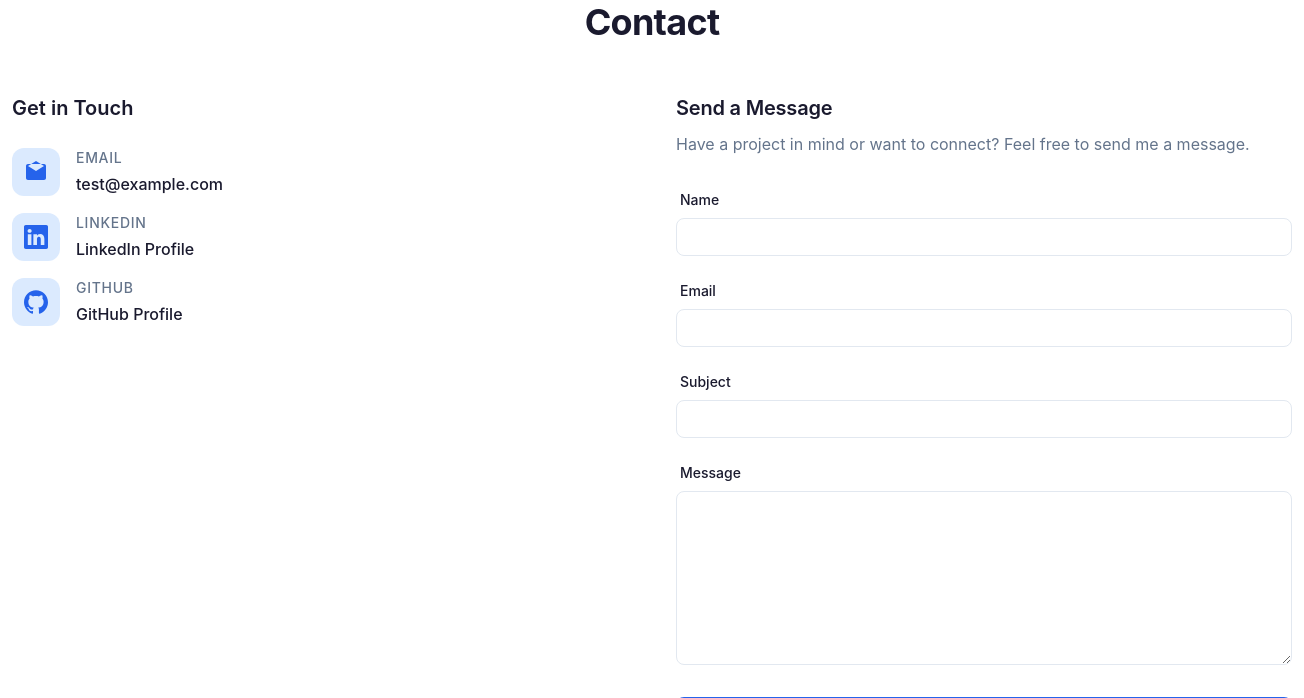
Test: Contact page › shows success state after valid submission
Type "Jane Doe" into the field labelled "Name". click: x=984, y=237
box: left=676, top=218, right=1292, bottom=256
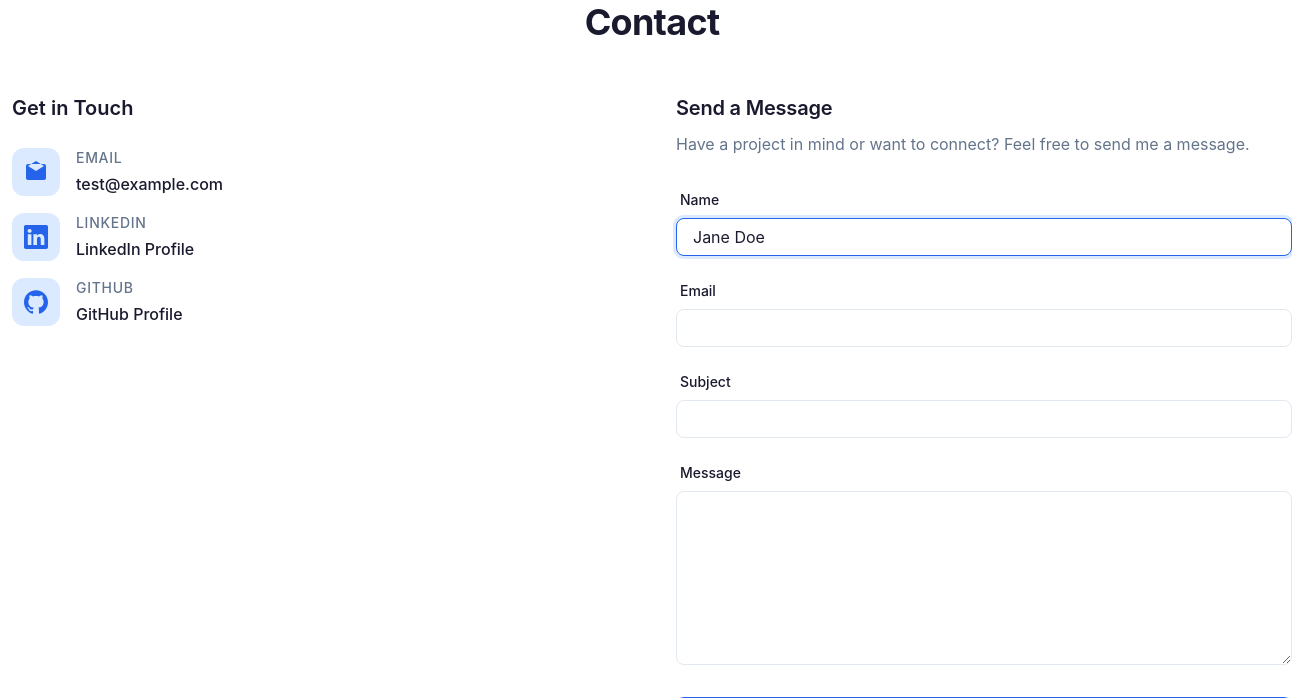
Type "jane@example.com" into the field labelled "Email". click: x=984, y=328
box: left=676, top=309, right=1292, bottom=347
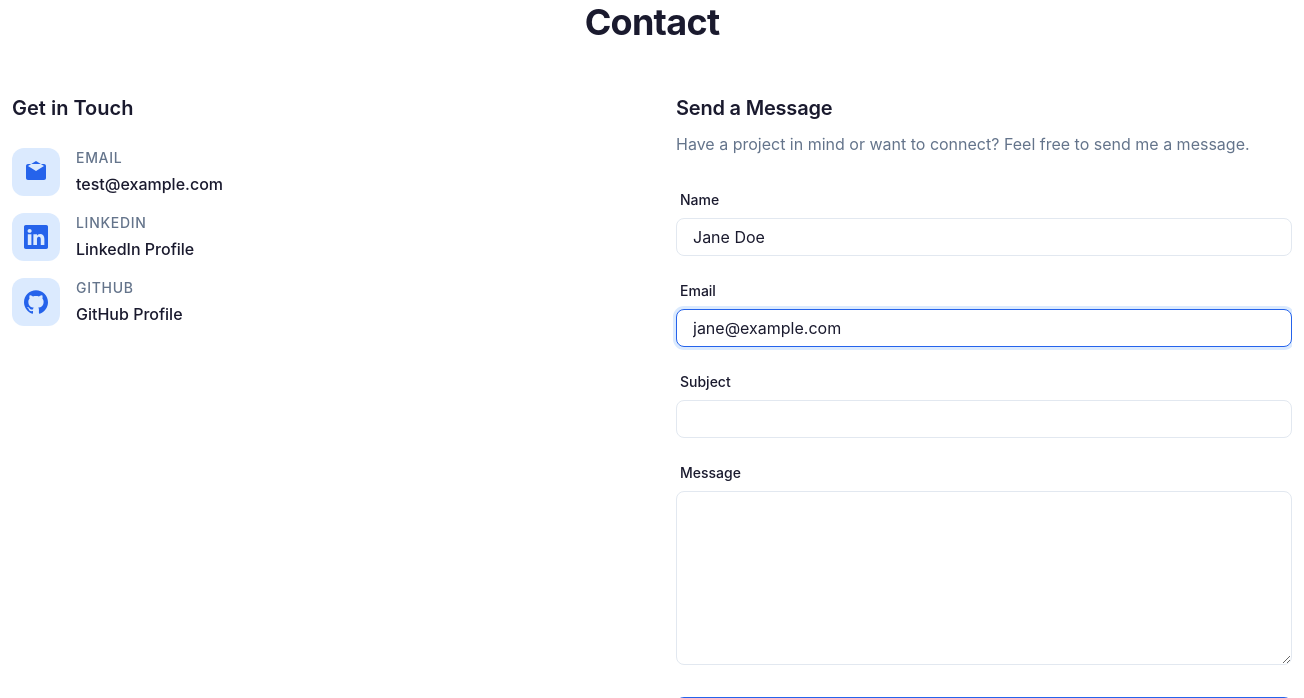
Type "Hello there" into the field labelled "Subject". click: x=984, y=419
box: left=676, top=400, right=1292, bottom=438
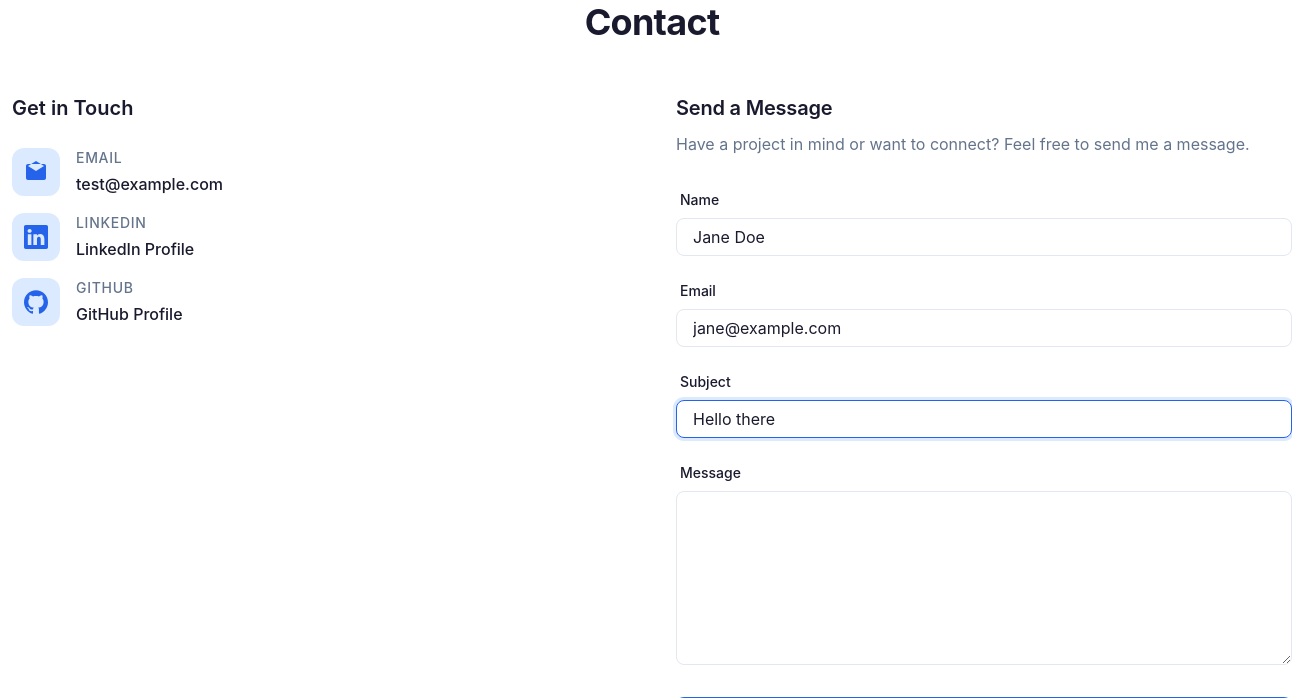
Type "This is a test message that is long enough." into the text box labelled "Message". click: x=984, y=578
box: left=676, top=491, right=1292, bottom=665
(page scrolled)
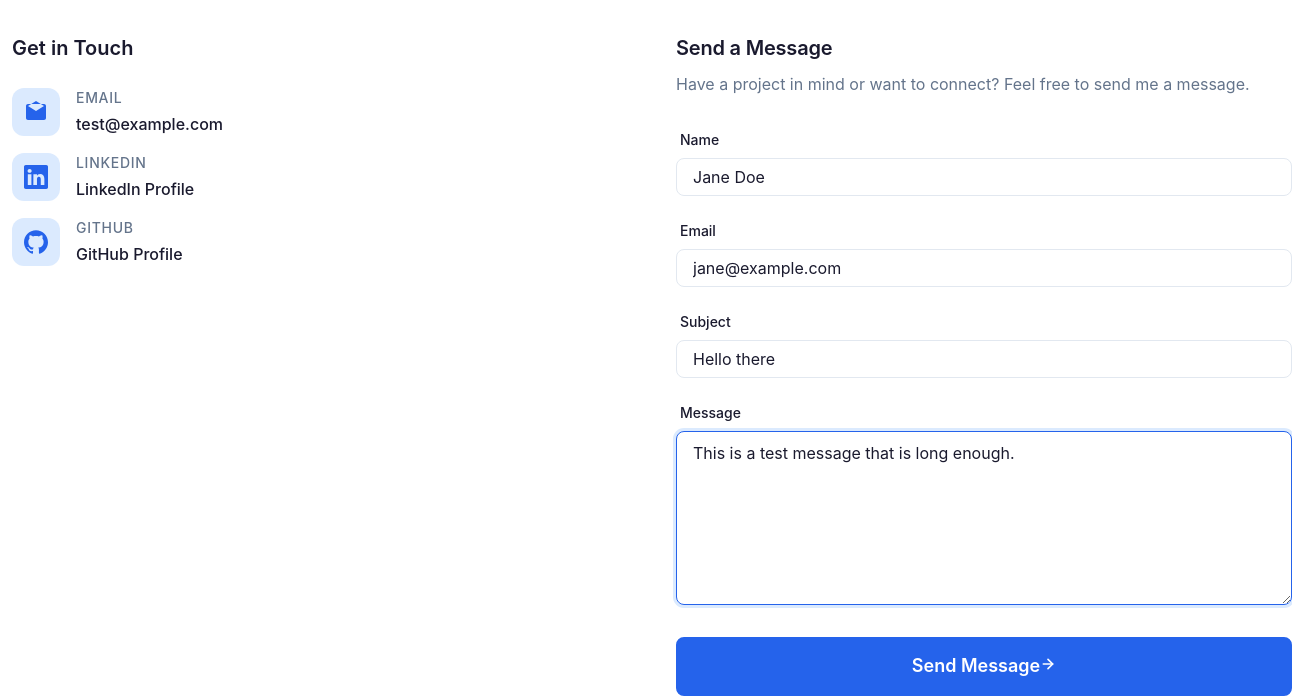
Click the button "Send Message". click: x=984, y=666
box: left=676, top=637, right=1292, bottom=696
(page scrolled)
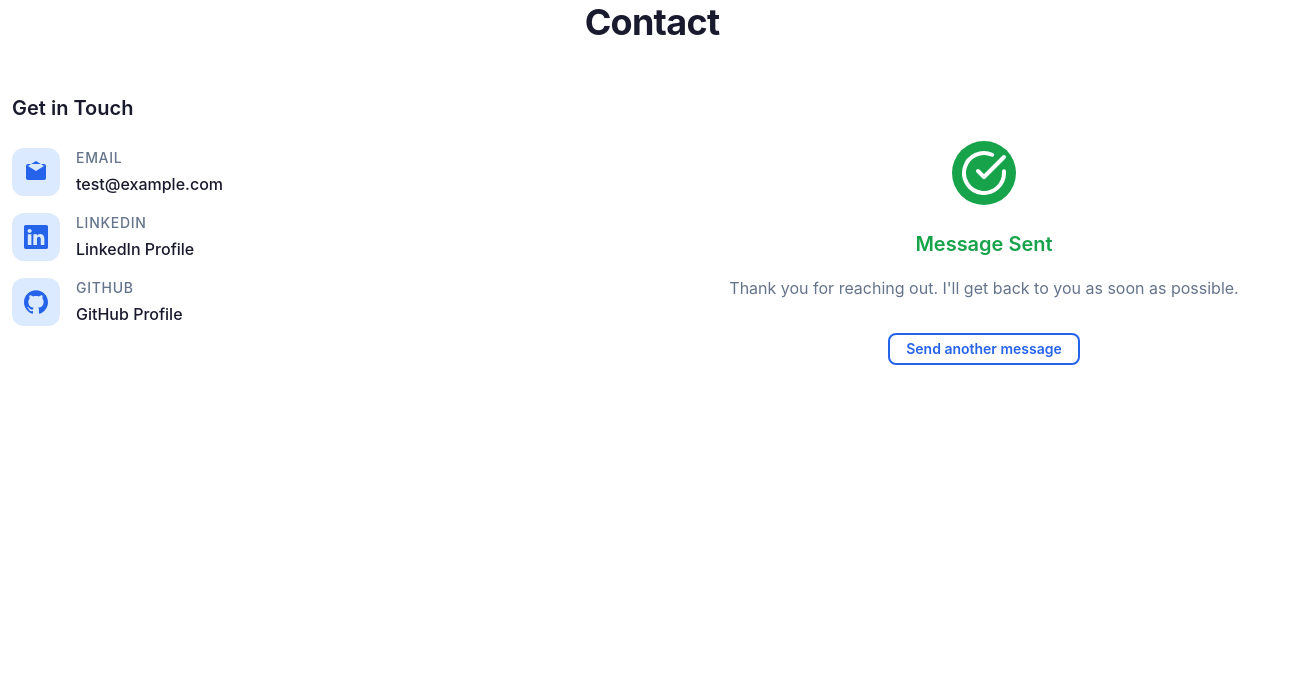
Expected: the text "Message Sent" is shown, left=915, top=232, right=1053, bottom=256
Expected: the text "Thank you for reaching out" is shown, left=729, top=278, right=1239, bottom=298
